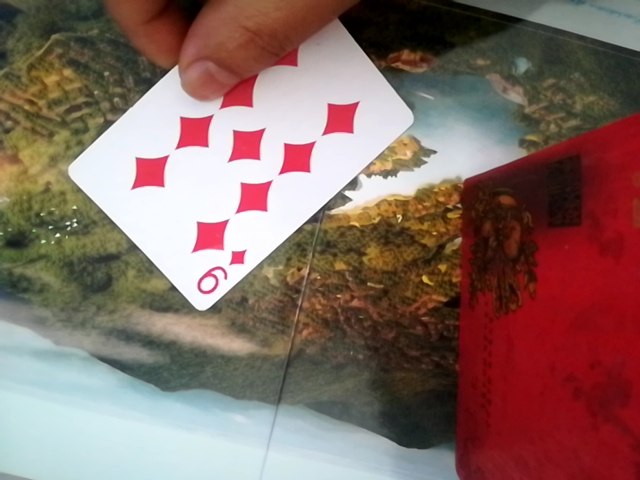fk 9: (60, 21, 418, 313)
